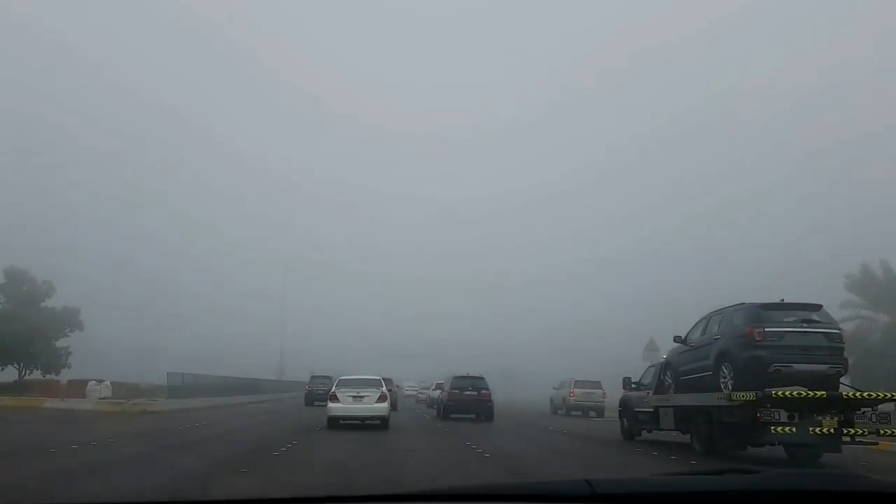car: (658, 298, 850, 398), (326, 375, 393, 426), (434, 371, 495, 420), (548, 376, 607, 418), (362, 376, 400, 411), (303, 374, 336, 406), (424, 380, 460, 408), (414, 385, 434, 402), (401, 382, 419, 397)
